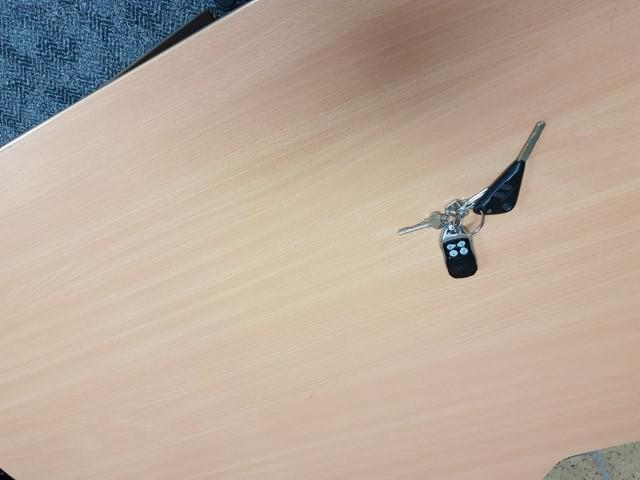key: (466, 118, 551, 217)
